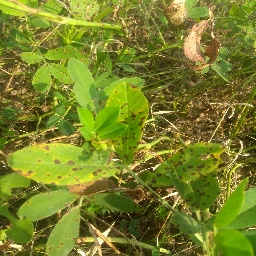GroundNut_Leaf: (5, 141, 120, 184), (144, 143, 226, 185), (20, 42, 77, 90), (108, 81, 151, 138), (47, 205, 85, 254), (215, 174, 251, 224), (17, 188, 57, 219), (95, 194, 149, 215)
